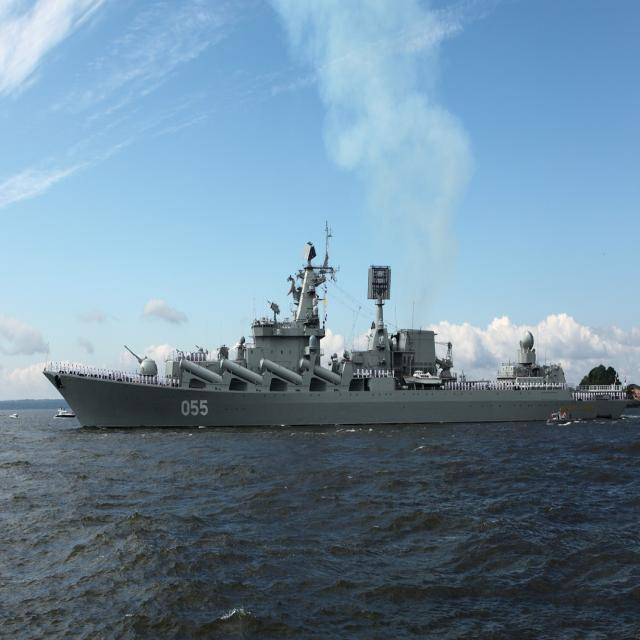navalvessels: (35, 194, 640, 458)
